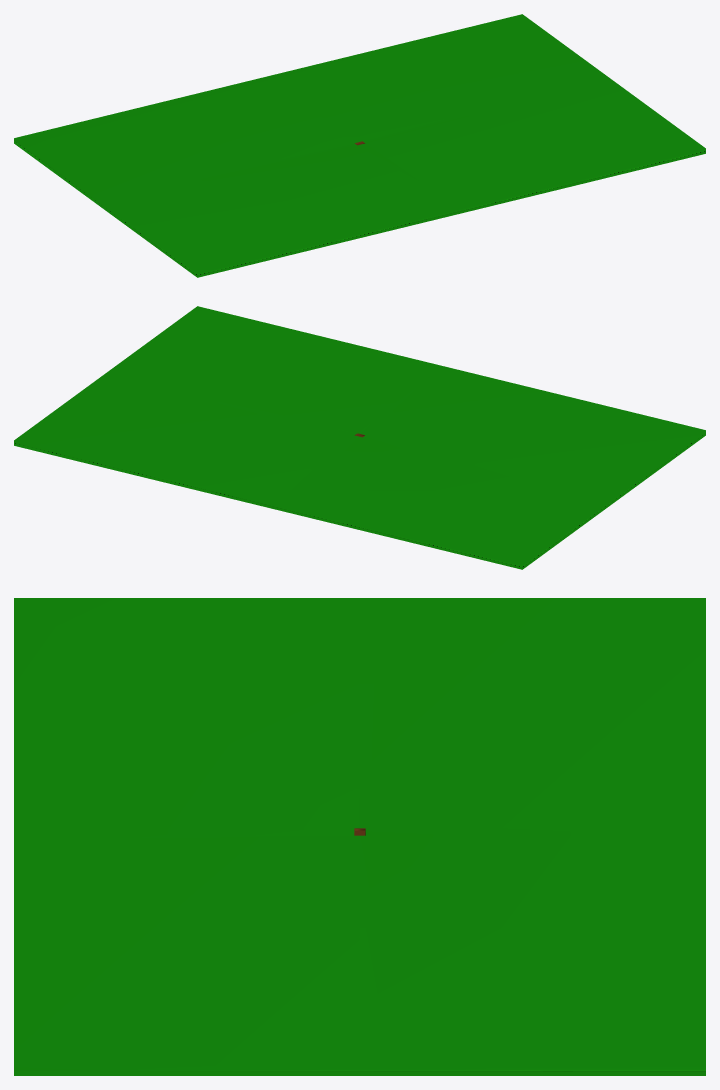
File: GrasWithHole.fbx
3 views of the same model, one above another, from view 1: azimuth 30°, elevation 25°; view 2: azimuth 150°, elevation 25°; view 3: azimuth 270°, elevation 25° (orthographic). The views are drawn at different scales.
Visible parts, largest first — view 1: GroundWithHole; view 2: GroundWithHole; view 3: GroundWithHole.
Boxes of the visible parts, box(x1,y1,x2,y2) form: GroundWithHole: box(14, 14, 705, 277); GroundWithHole: box(14, 306, 705, 569); GroundWithHole: box(14, 598, 705, 1075).
Size of the model in its own units: 20000 by 200 by 12500.
